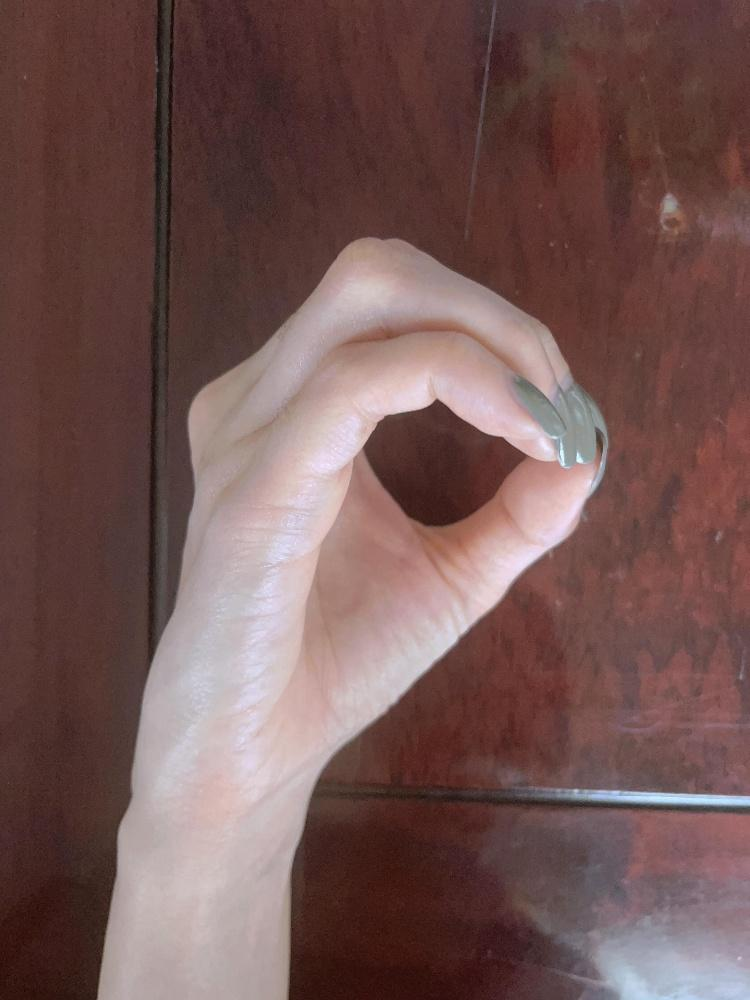o: (133, 231, 608, 773)
